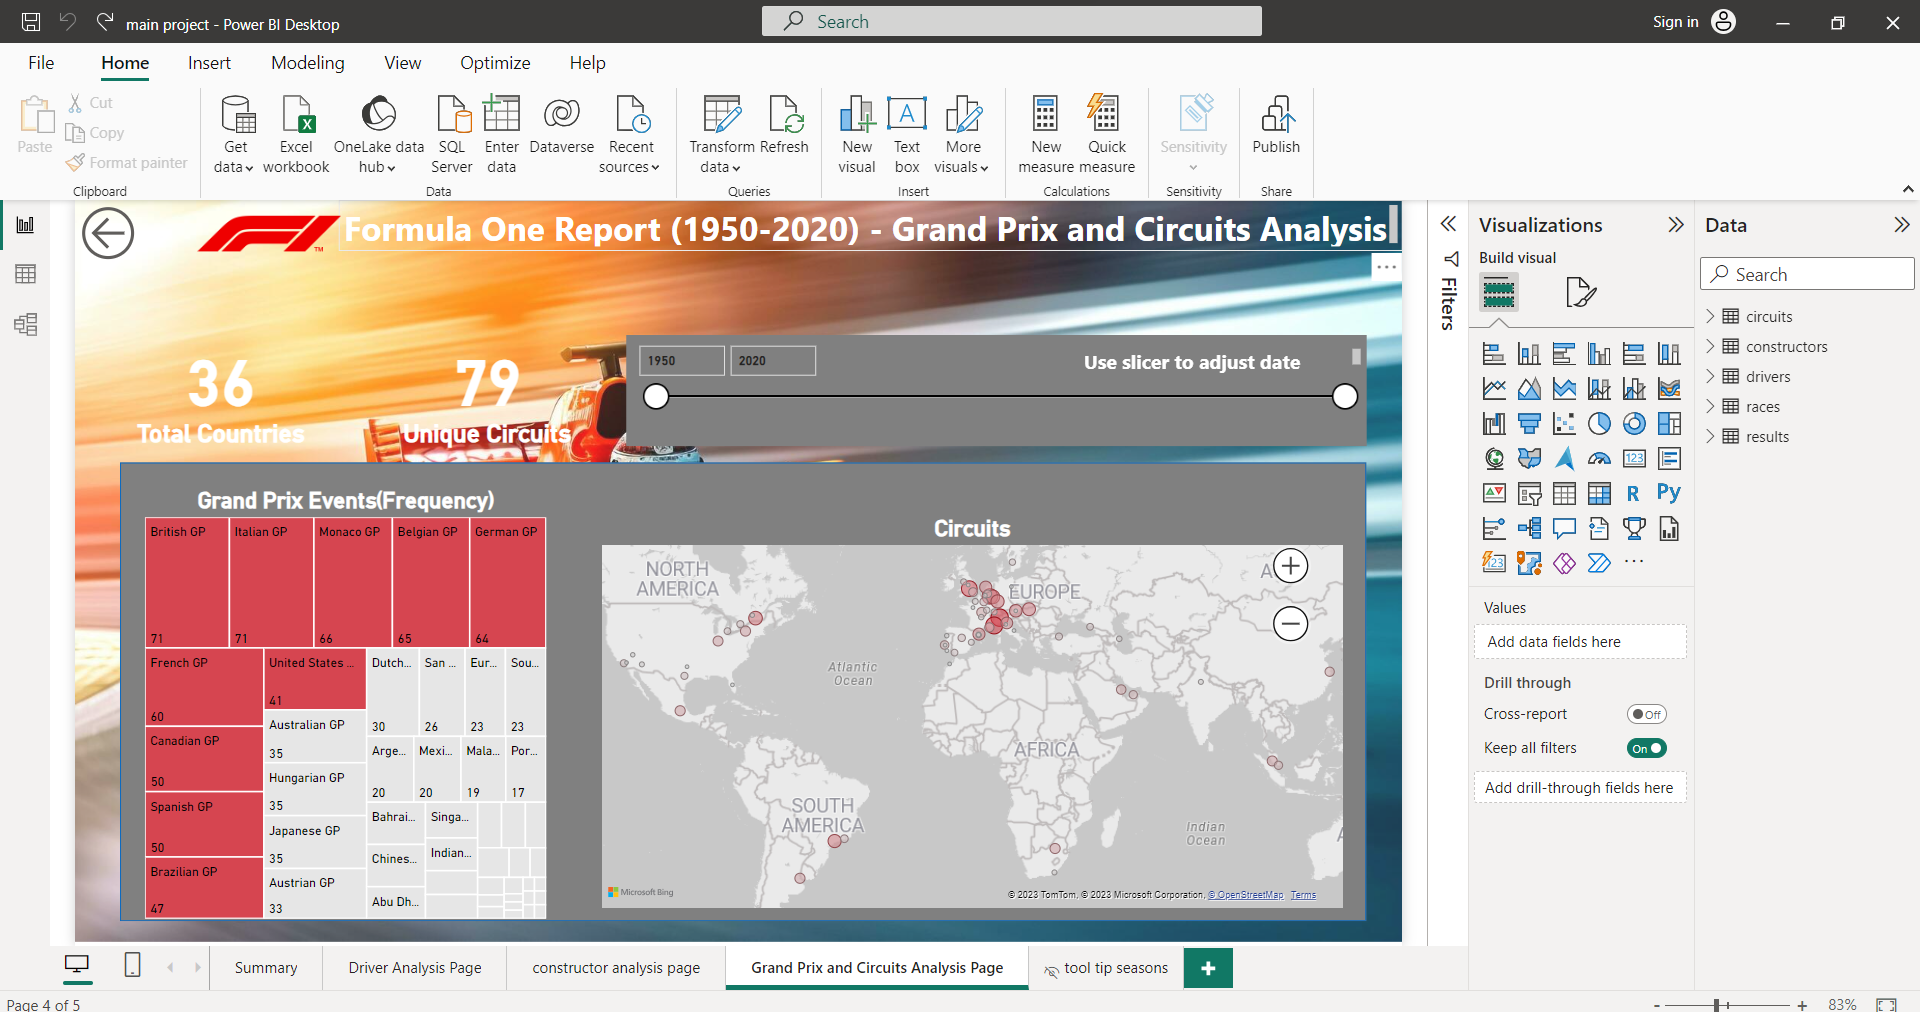

Layout of this report page (visuals, bound fields, positions):
{"tool":"powerbi","page":{"name":"Grand Prix and Circuits Analysis Page","canvas":[1280,720],"ordinal":3},"visuals":[{"type":"shape","box":[43.4,253.3,1202.4,442.6],"z":0},{"type":"textbox","box":[254.5,0,1026.3,49.4],"z":1000},{"type":"image","box":[113.4,0,148.3,63.9],"z":2000},{"type":"card","fields":{"Values":["Count(circuits.country)"]},"box":[27.7,88,226.7,189.3],"z":3000},{"type":"card","fields":{"Values":["Count(circuits.circuit_name)"]},"box":[254.5,88,287,189.3],"z":4000},{"type":"treemap","title":"Grand Prix Events(Frequency)","fields":{"Group":["races.grand_prix"],"Values":["CountNonNull(races.grand_prix)"]},"box":[62.7,277.4,396.8,420.9],"z":5000},{"type":"slicer","fields":{"Values":["races.date.Variation.Date Hierarchy.Year"]},"box":[532,130.2,714.3,106.9],"z":6000},{"type":"textbox","box":[968.4,138.7,277.4,36.2],"z":7000},{"type":"map","title":"Circuits","fields":{"Y":["circuits.latitude"],"X":["circuits.longitude"],"Size":["CountNonNull(races.grand_prix)"]},"box":[504.1,303.9,723.6,383.5],"z":8000},{"type":"actionButton","box":[0,0,130.3,63.9],"z":8001}]}

Visuals, with their boxes on the page's 1280x720 design canvas (x1, y1, x2, y2). These are canvas units, not pixel positions in the 1920x1012 screenshot, which may show the page scaled, cropped or inside an application window:
shape: [43,253,1246,696]
textbox: [254,0,1281,49]
image: [113,0,262,64]
card - Count(circuits.country): [28,88,254,277]
card - Count(circuits.circuit_name): [254,88,542,277]
"Grand Prix Events(Frequency)" treemap: [63,277,460,698]
slicer - races.date.Variation.Date Hierarchy.Year: [532,130,1246,237]
textbox: [968,139,1246,175]
"Circuits" map: [504,304,1228,687]
actionButton: [0,0,130,64]
